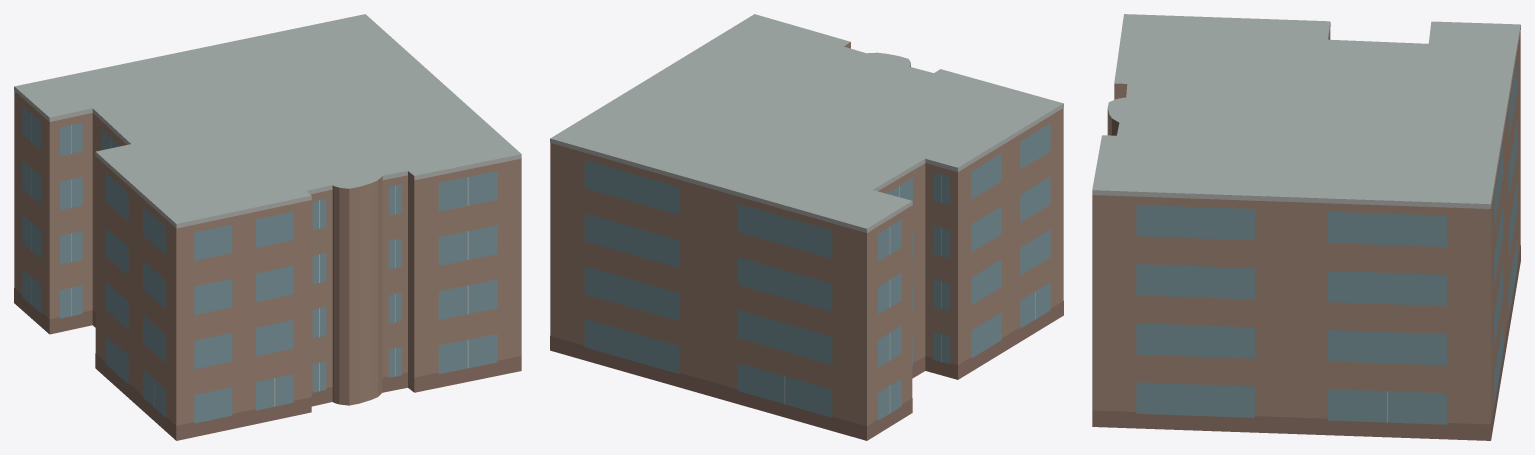
The model's file is survey-upis-32829748.glb.
3 renders of one model, left to right at view 1: azimuth 30°, elevation 25°; view 2: azimuth 150°, elevation 25°; view 3: azimuth 270°, elevation 25°, orthographic. The views are drawn at different scales.
Parts seen in each view (by area): view 1: survey-upis-32829748.tmp; view 2: survey-upis-32829748.tmp; view 3: survey-upis-32829748.tmp.
Part boxes in pixels (<box>): survey-upis-32829748.tmp: <box>14,14,521,440</box>; survey-upis-32829748.tmp: <box>550,14,1063,440</box>; survey-upis-32829748.tmp: <box>1092,14,1520,440</box>.
Bounding box in the file's own units: 20.7 × 12 × 19.71.
